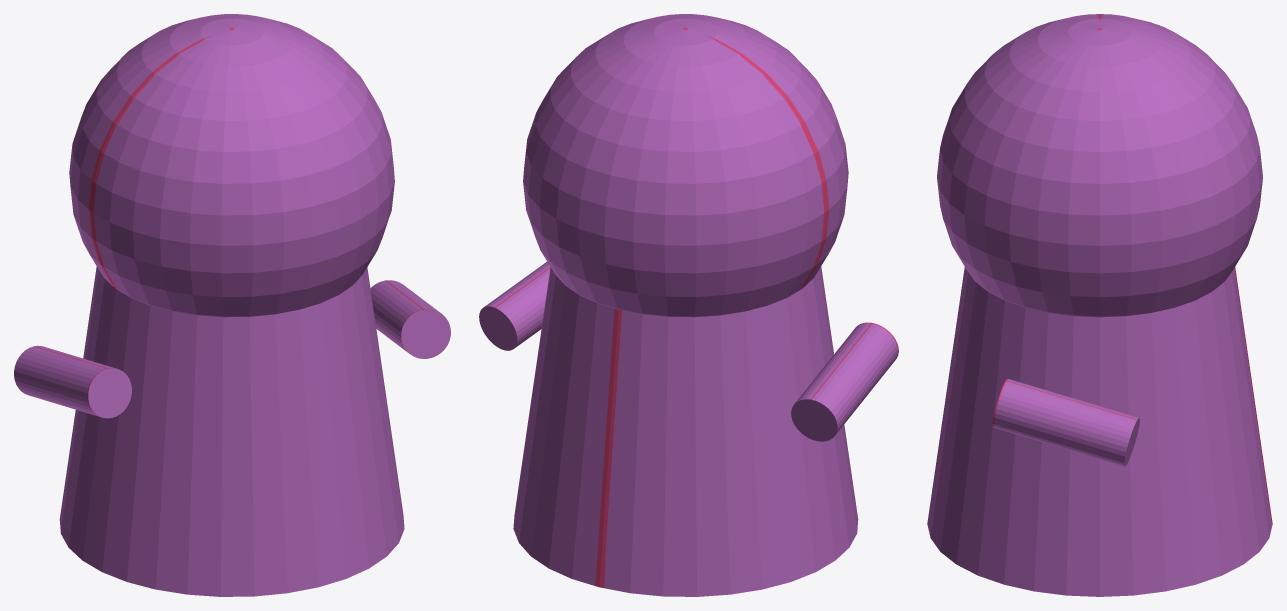
File: player_red.obj
The picture shows the model from 3 angles, left to right: view 1: azimuth 30°, elevation 25°; view 2: azimuth 150°, elevation 25°; view 3: azimuth 270°, elevation 25°; orthographic projection.
Visible parts, largest first — view 1: 球.001; view 2: 球.001; view 3: 球.001.
Boxes of the visible parts, x1,y1,x2,y2 form: 球.001: (14, 14, 450, 596); 球.001: (479, 14, 898, 596); 球.001: (927, 14, 1272, 596).
Size of the model in its own units: 1.18 by 1.47 by 0.9327.
Materials: 1 (1 with a texture image).
